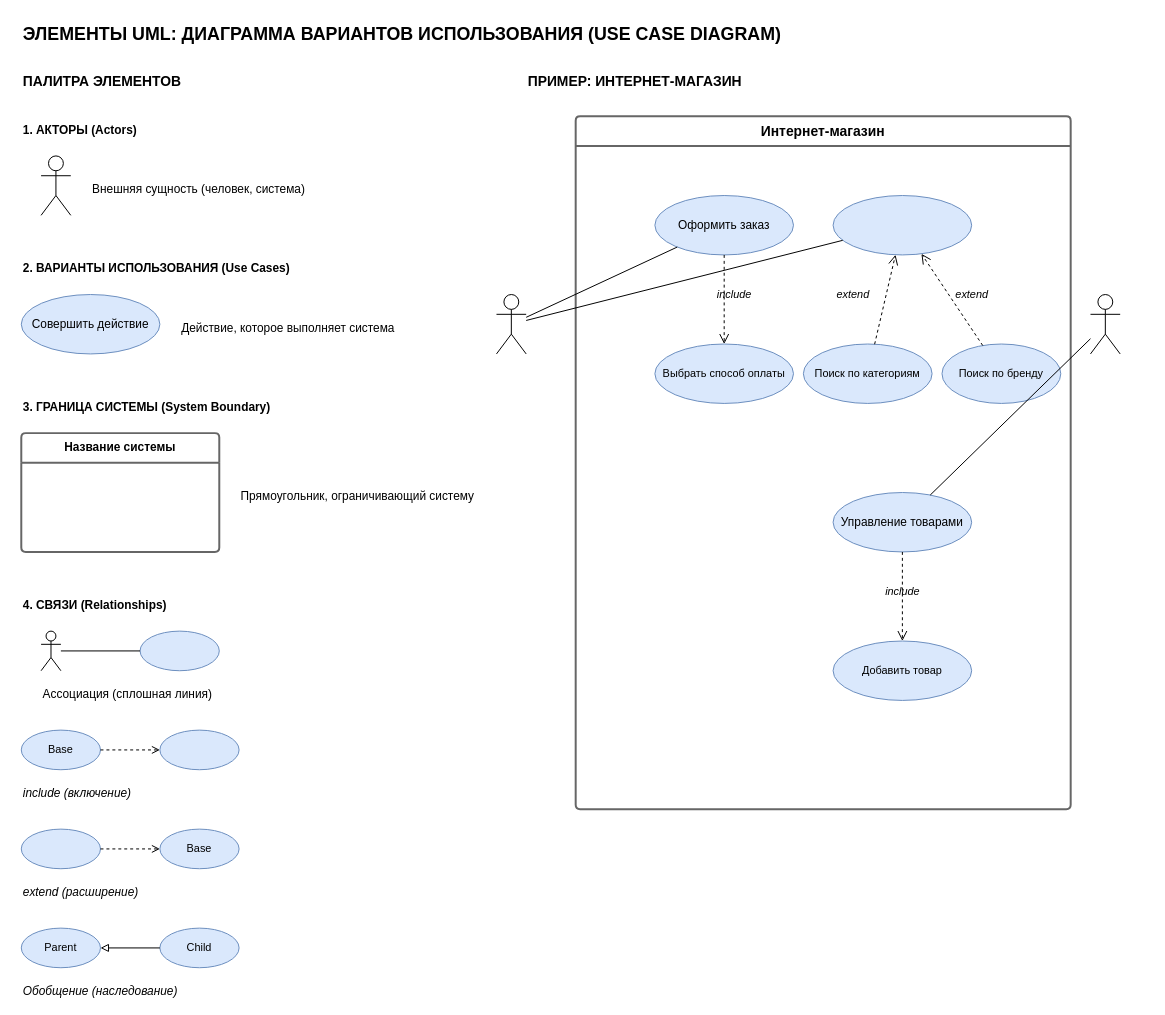
Image size: 1165x1015. Some labels were removed from this diagram. The shapes that lost their labels are listed below. From the top down, each one's box as (x1, y1, x2, y2) in pixels, then its label:
(40, 155, 71, 215): Пользователь
(832, 195, 972, 255): Найти товар
(495, 294, 526, 354): Покупатель
(1089, 294, 1120, 354): Администратор
(159, 729, 239, 770): Included
(20, 828, 100, 869): Extended
